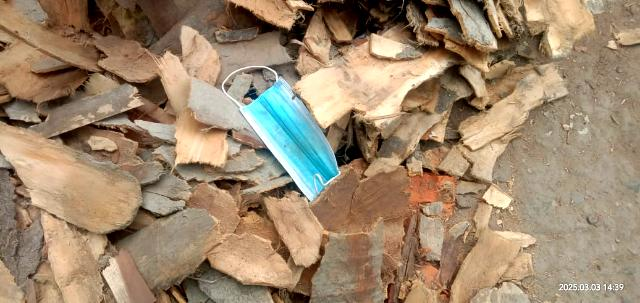mask: (235, 73, 358, 205)
